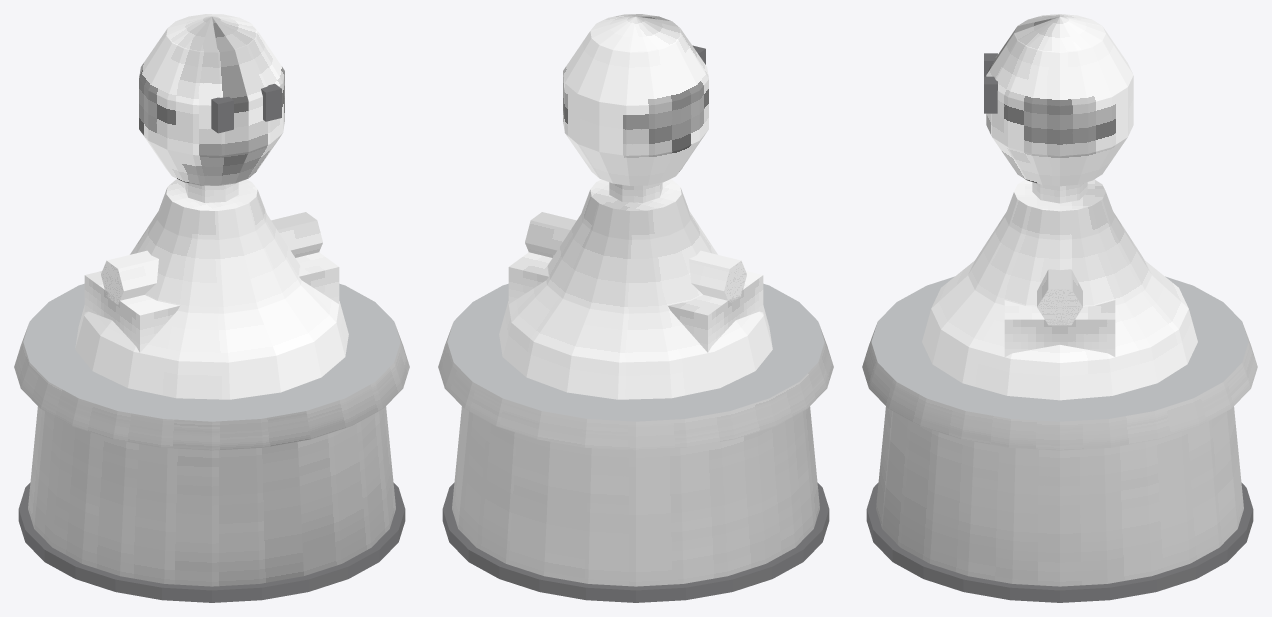
File: Building_SculptureSmall__BustA.glb
The picture shows the model from 3 angles, left to right: view 1: azimuth 30°, elevation 25°; view 2: azimuth 150°, elevation 25°; view 3: azimuth 270°, elevation 25°; orthographic projection.
Visible parts, largest first — view 1: SculptureSmall__BustA; view 2: SculptureSmall__BustA; view 3: SculptureSmall__BustA.
Boxes of the visible parts, x1,y1,x2,y2 form: SculptureSmall__BustA: [14, 14, 409, 602]; SculptureSmall__BustA: [438, 14, 833, 602]; SculptureSmall__BustA: [862, 14, 1257, 602].
Bounding box in the file's own units: 0.86 × 1.21 × 0.86.
Materials: 1 (1 with a texture image).
